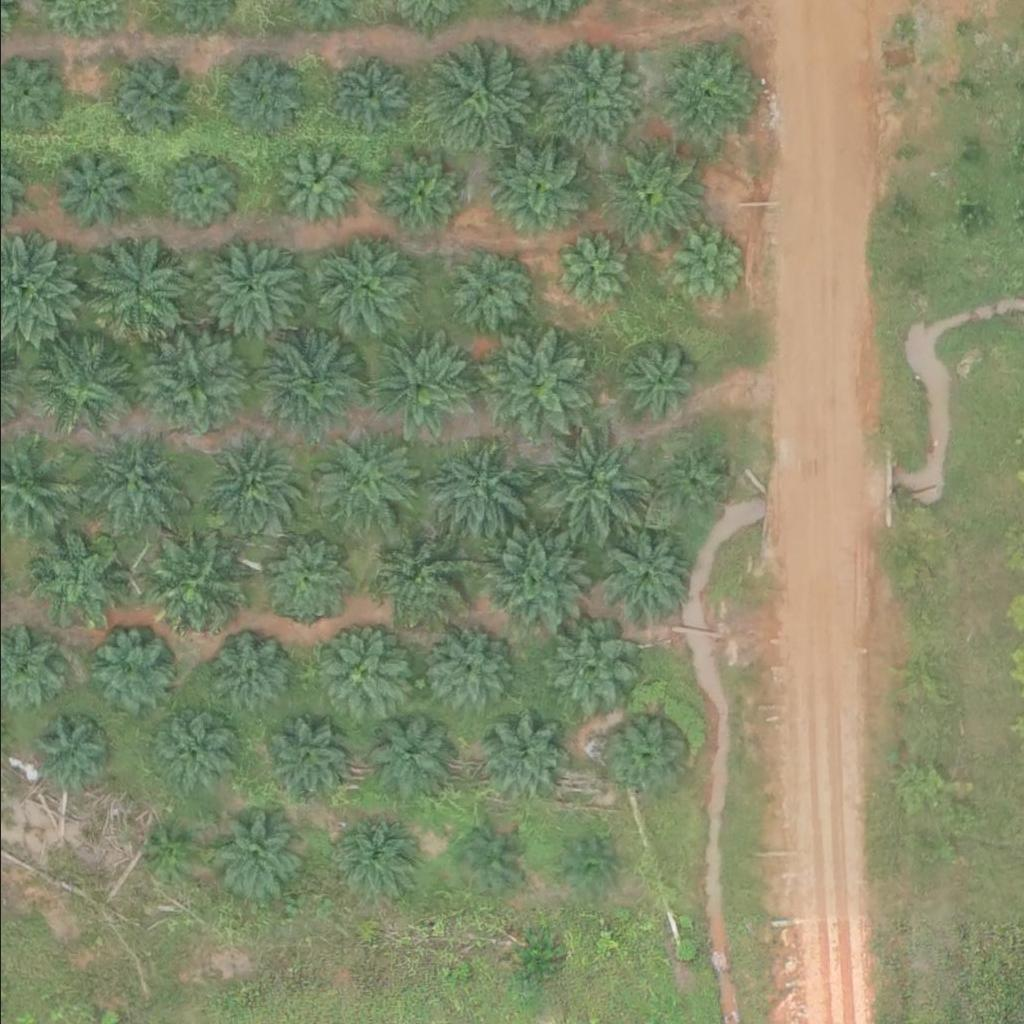Kelapa_Sawit: (534, 429, 659, 554), (528, 44, 642, 157), (421, 50, 535, 163), (482, 331, 595, 444), (363, 336, 476, 449), (254, 330, 367, 443), (135, 330, 249, 442), (77, 233, 191, 345), (654, 45, 755, 145), (603, 143, 704, 243), (428, 444, 529, 544), (313, 434, 414, 534), (192, 434, 293, 534), (482, 532, 583, 632), (366, 524, 467, 624), (143, 538, 244, 638), (22, 533, 123, 633), (484, 143, 584, 243), (317, 240, 417, 340), (203, 243, 303, 343), (82, 437, 182, 537), (31, 333, 131, 433), (316, 630, 405, 718), (597, 533, 685, 621), (262, 534, 350, 622), (205, 630, 293, 718), (85, 629, 173, 717), (330, 813, 418, 901), (610, 340, 699, 427), (658, 228, 746, 315), (46, 145, 134, 232), (152, 151, 240, 238), (107, 60, 195, 147), (543, 624, 631, 711), (418, 626, 506, 713), (476, 714, 564, 801), (363, 712, 451, 799), (261, 712, 349, 799), (143, 706, 231, 793), (211, 813, 299, 900), (609, 719, 685, 794), (332, 64, 408, 139), (218, 62, 294, 137), (379, 156, 455, 231), (275, 151, 351, 226), (446, 258, 522, 333), (554, 233, 629, 308), (31, 715, 106, 790), (456, 830, 519, 892), (659, 453, 722, 515), (503, 931, 565, 993), (138, 826, 189, 876), (559, 840, 609, 890)
